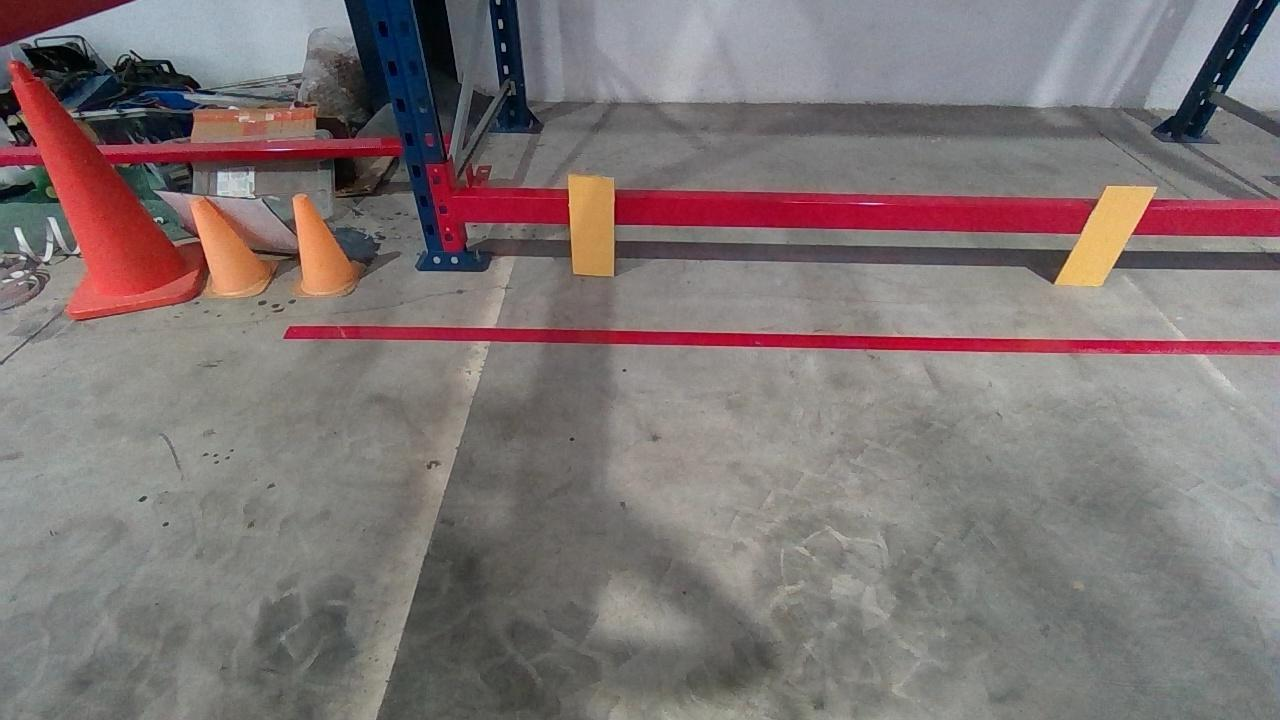h_rack: (456, 195, 1280, 238)
orange_strip: (1051, 185, 1161, 287), (567, 173, 615, 273)
red_line: (286, 323, 1279, 355)
